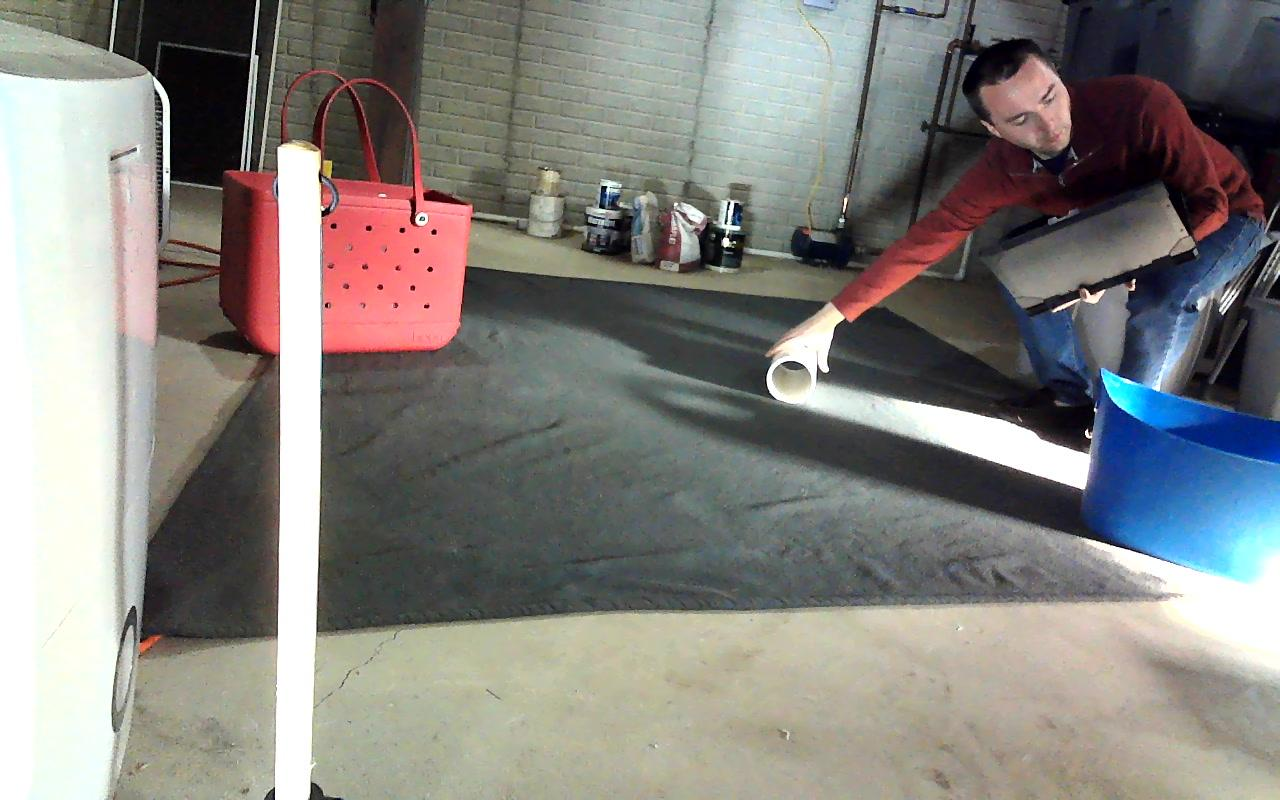coral: (764, 341, 823, 403)
